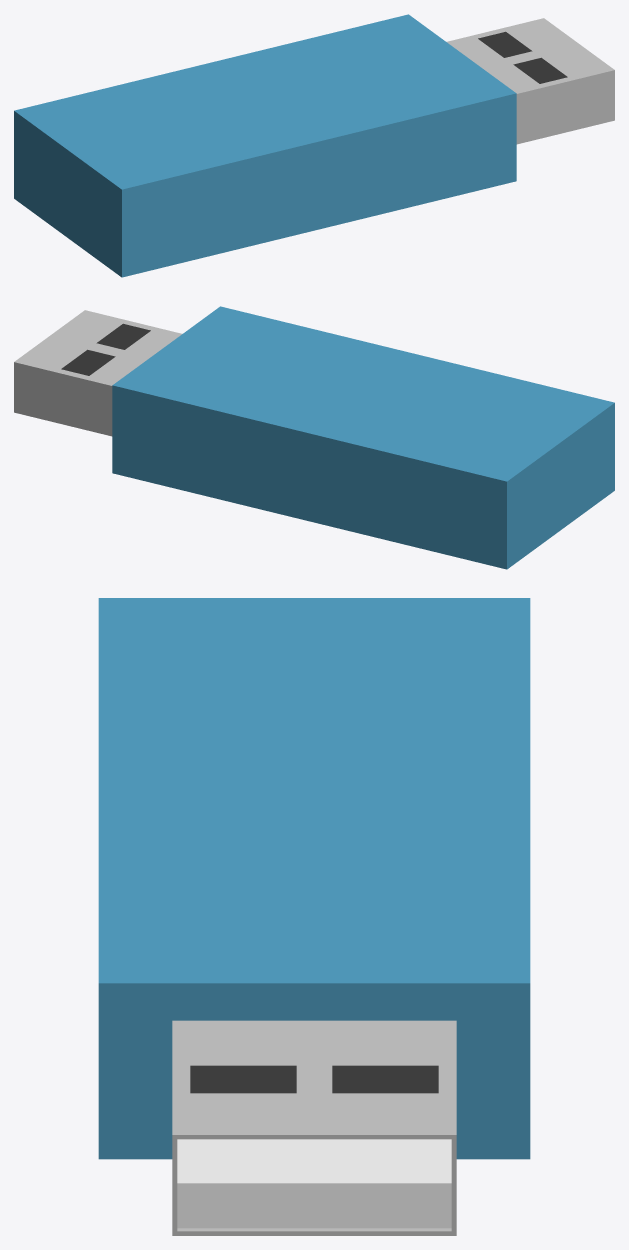
File: pendrive.fbx
3 renders of one model, top to bottom at view 1: azimuth 30°, elevation 25°; view 2: azimuth 150°, elevation 25°; view 3: azimuth 270°, elevation 25°, orthographic. The views are drawn at different scales.
Parts seen in each view (by area): view 1: Cube, Cube_1; view 2: Cube, Cube_1; view 3: Cube, Cube_1, Cube_2.
Part boxes in pixels (<box>): Cube: <box>14,14,516,277</box>; Cube_1: <box>447,18,614,144</box>; Cube: <box>112,306,614,569</box>; Cube_1: <box>14,310,181,436</box>; Cube: <box>98,598,530,1159</box>; Cube_1: <box>172,1020,456,1235</box>; Cube_2: <box>177,1139,451,1228</box>.
Bounding box in the file's own units: 46.51 × 7.64 × 16.99.
